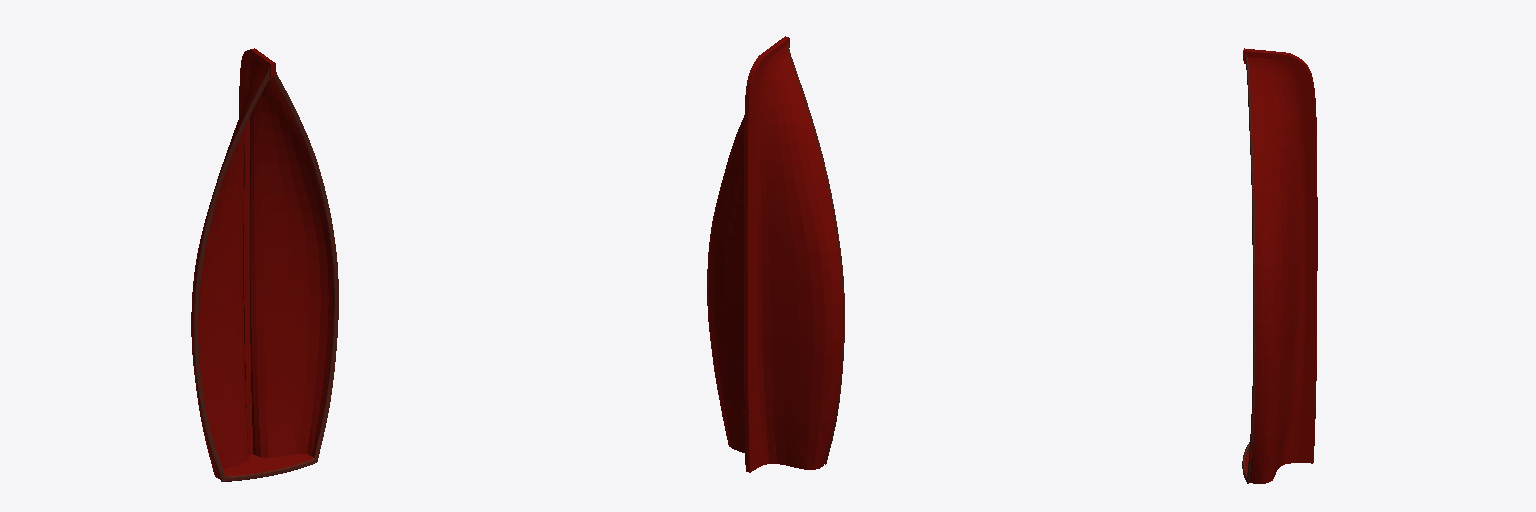
Rendered from voile.obj.
3 views of the same model, side by side, from view 1: azimuth 30°, elevation 25°; view 2: azimuth 150°, elevation 25°; view 3: azimuth 270°, elevation 25° (orthographic).
Parts seen in each view (by area): view 1: coque; view 2: coque; view 3: coque.
Part boxes in pixels (left/top/right/bottom): coque: left=191, top=48, right=338, bottom=481; coque: left=707, top=36, right=844, bottom=472; coque: left=1242, top=48, right=1317, bottom=483.
Size of the model in its own units: 2.38 by 6.72 by 1.11.